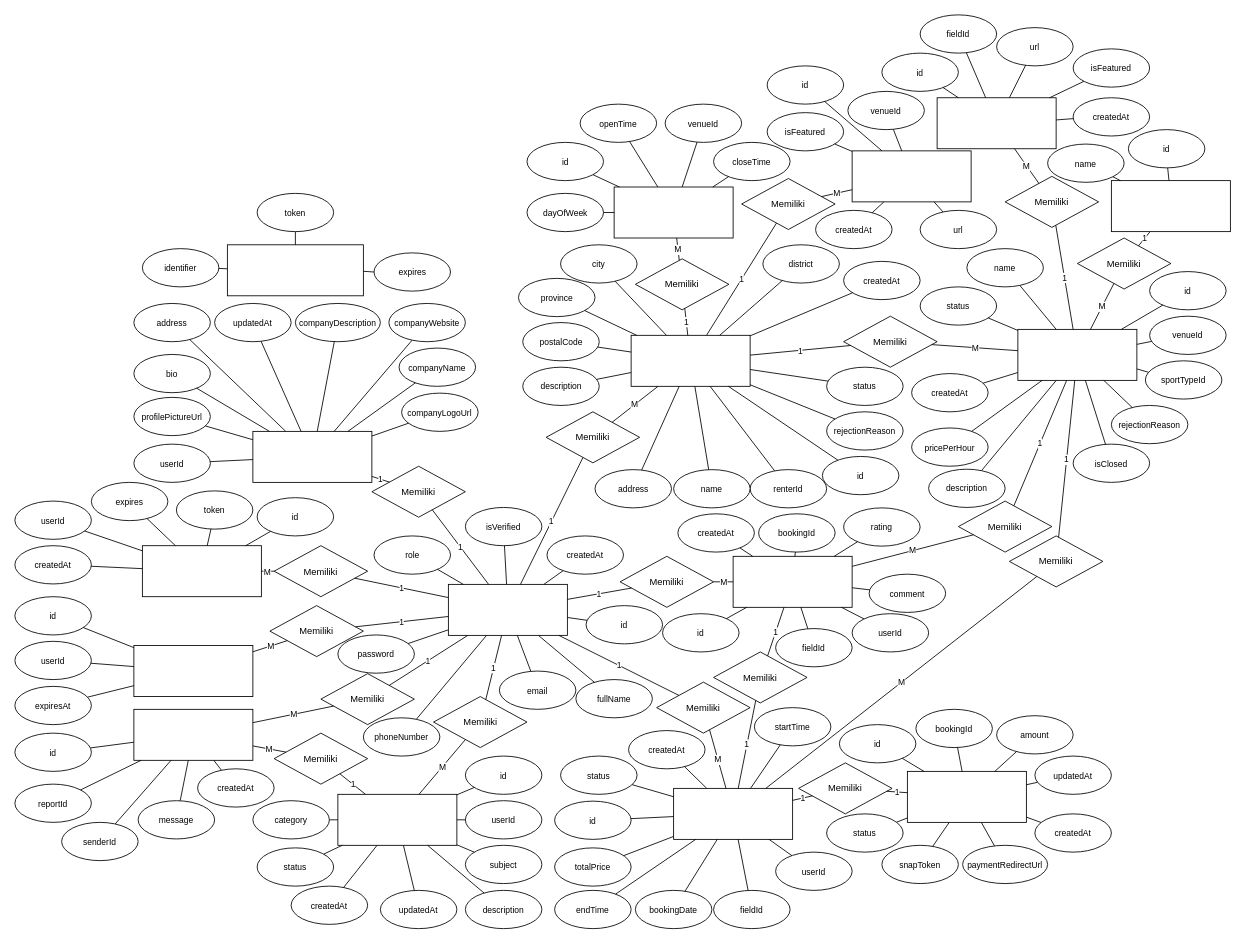
The diagram is 1245 pixels wide and 944 high, and some of its shapes have lost their labels. The centre of each missing label's shape, as x and y in pixels:
"Booking" belongs at (733,813).
"Field" belongs at (1077,354).
"Field Photo" belongs at (996,123).
"Payment" belongs at (966,796).
"Report" belongs at (397,819).
"Report Reply" belongs at (193,734).
"Reset Token" belongs at (201,571).
"Review" belongs at (792,581).
"Session" belongs at (193,671).
"Sport Type" belongs at (1170,206).
"User" belongs at (507,609).
"User Profile" belongs at (312,456).
"Venue" belongs at (690,360).
"Venue Photo" belongs at (911,176).
"Venue Schedule" belongs at (673,212).
"Verification Token" belongs at (295,270).
